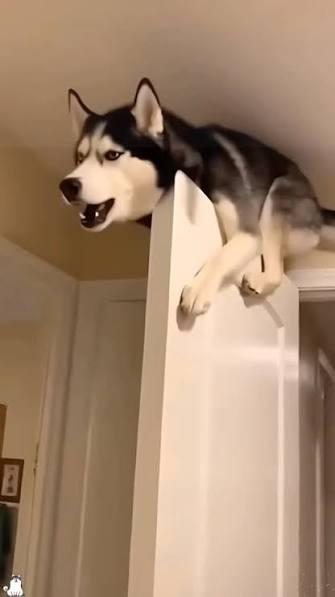adult_dog: (59, 79, 334, 314)
